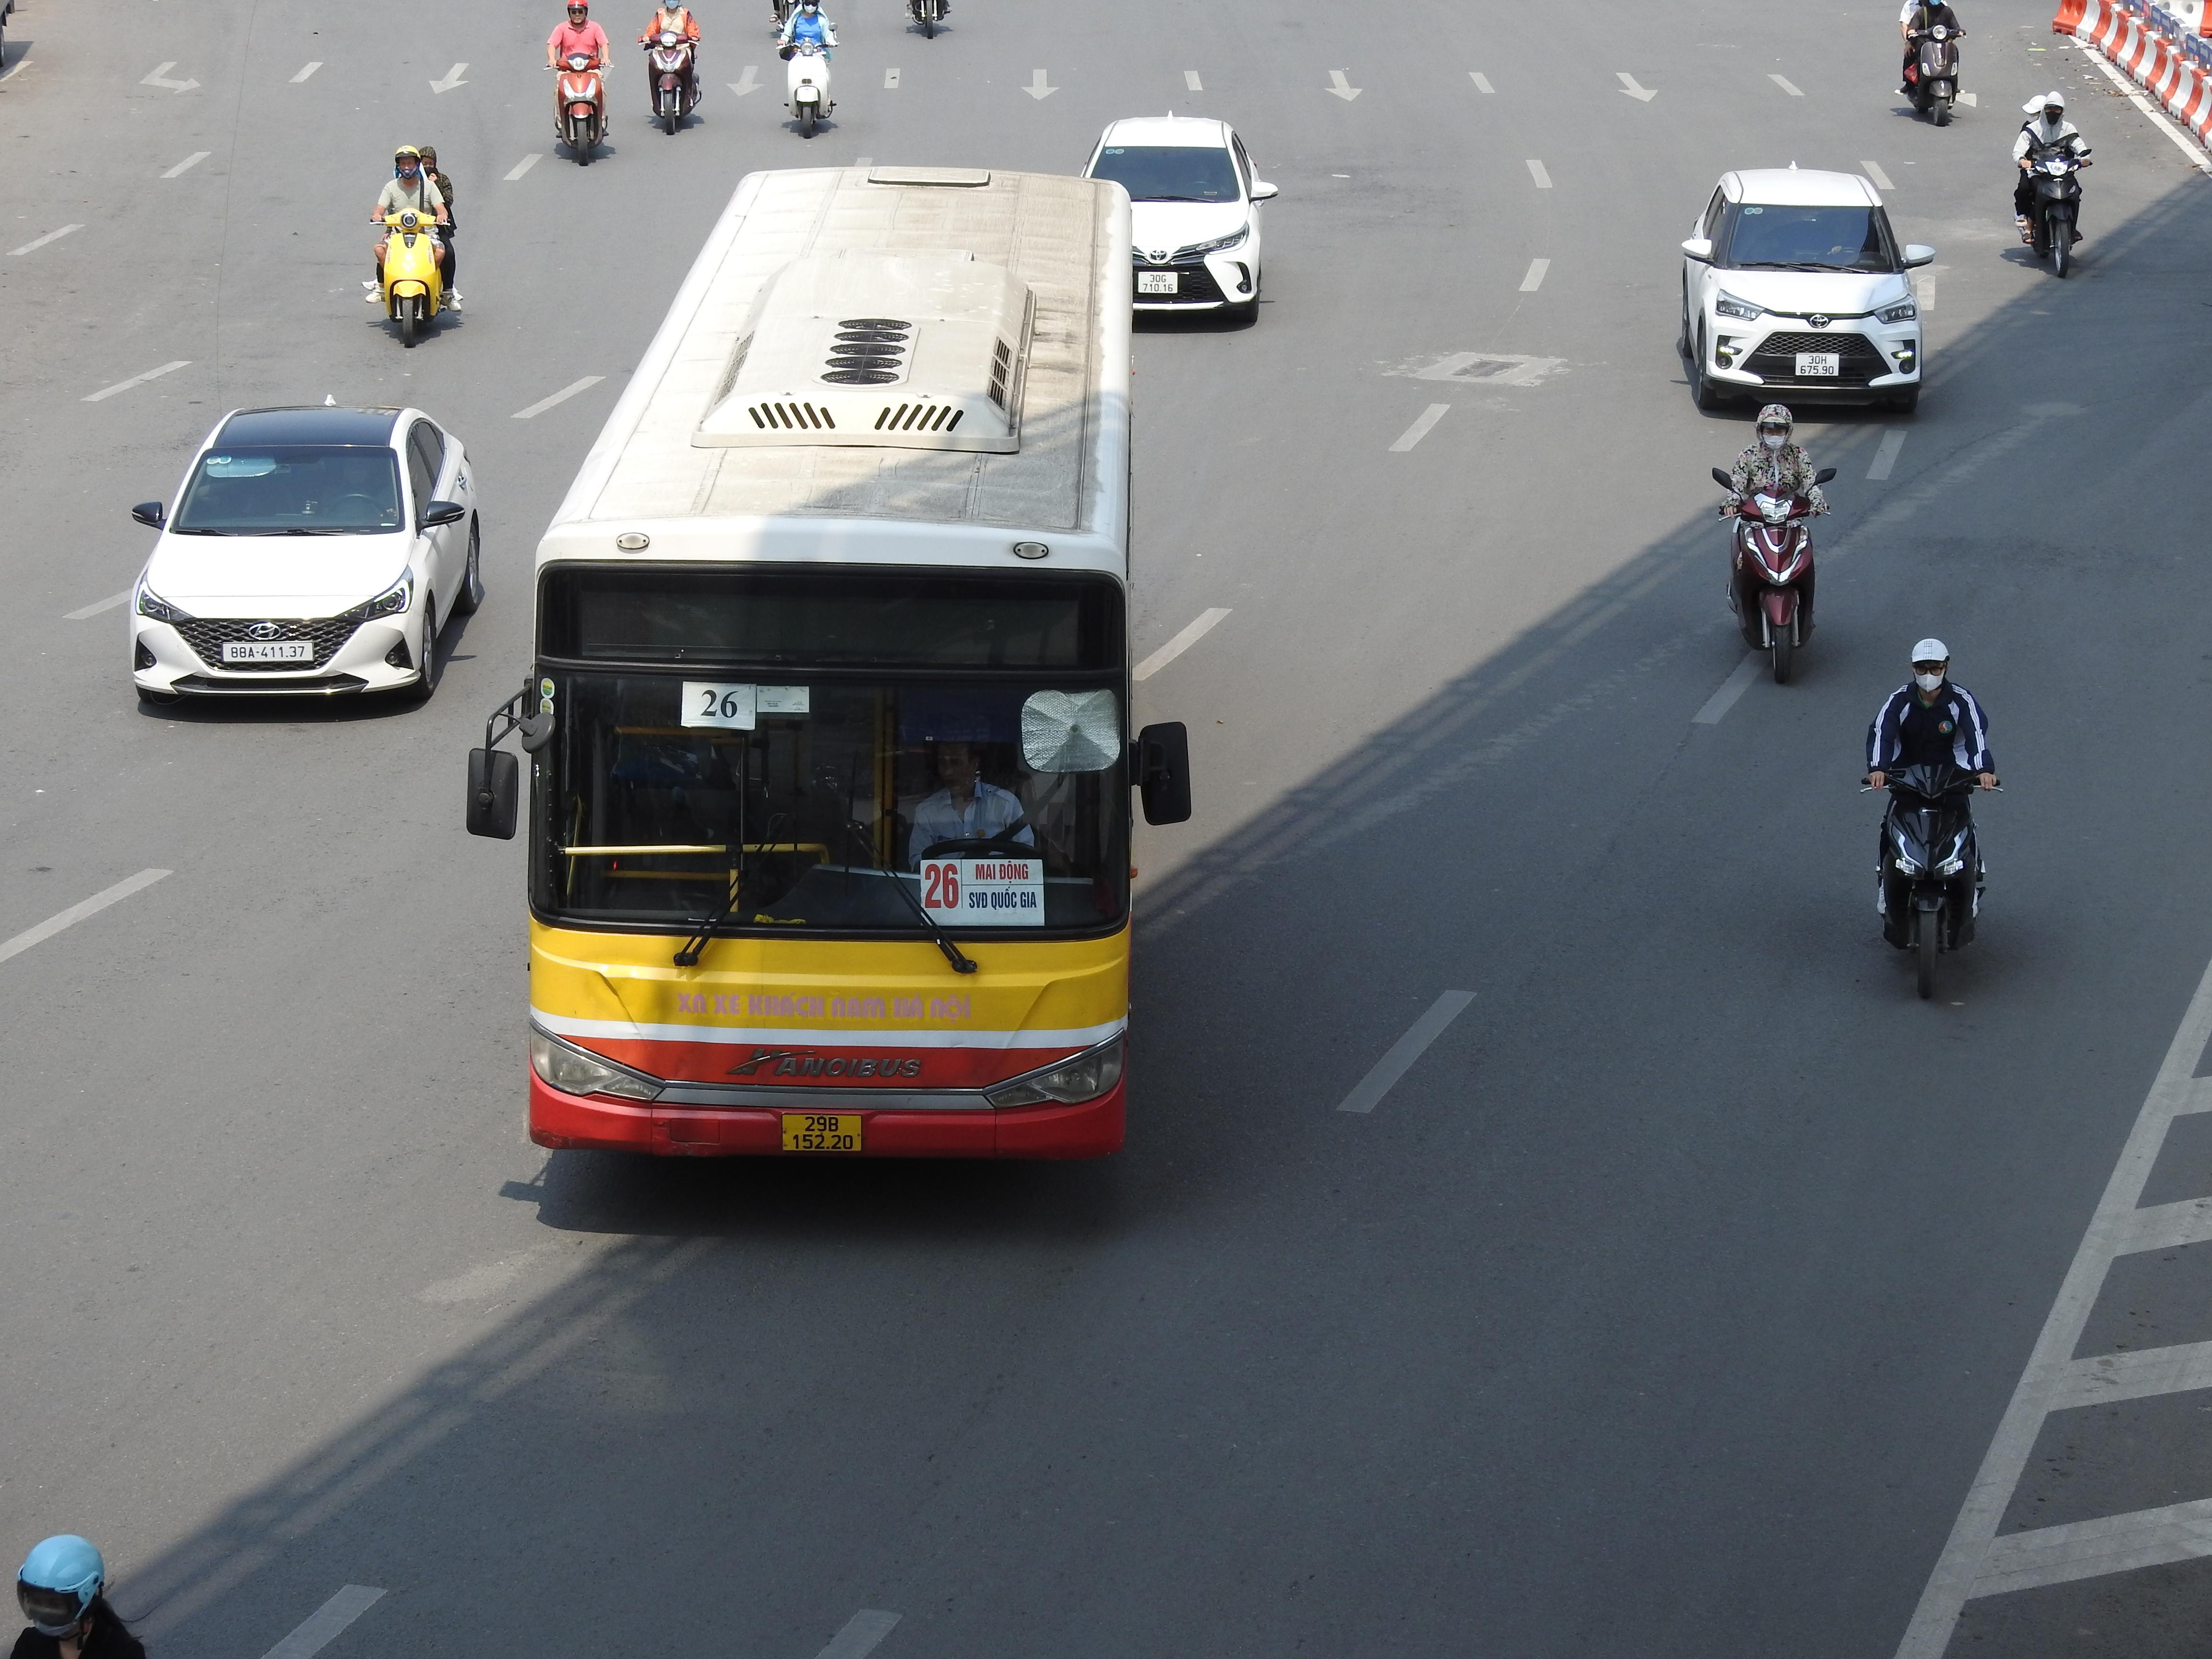BSD: (221, 641, 314, 662)
BSV: (780, 1114, 862, 1152), (1796, 352, 1839, 378), (1137, 272, 1179, 295)
bus: (469, 162, 1193, 1171)
car: (127, 403, 484, 716), (1677, 167, 1935, 416), (1078, 115, 1278, 329)
motorbike: (1862, 636, 2000, 1006), (1714, 403, 1831, 687), (366, 143, 462, 350), (2012, 92, 2090, 279), (549, 0, 613, 166), (1897, 0, 1965, 129), (639, 0, 704, 134), (777, 0, 840, 138)
